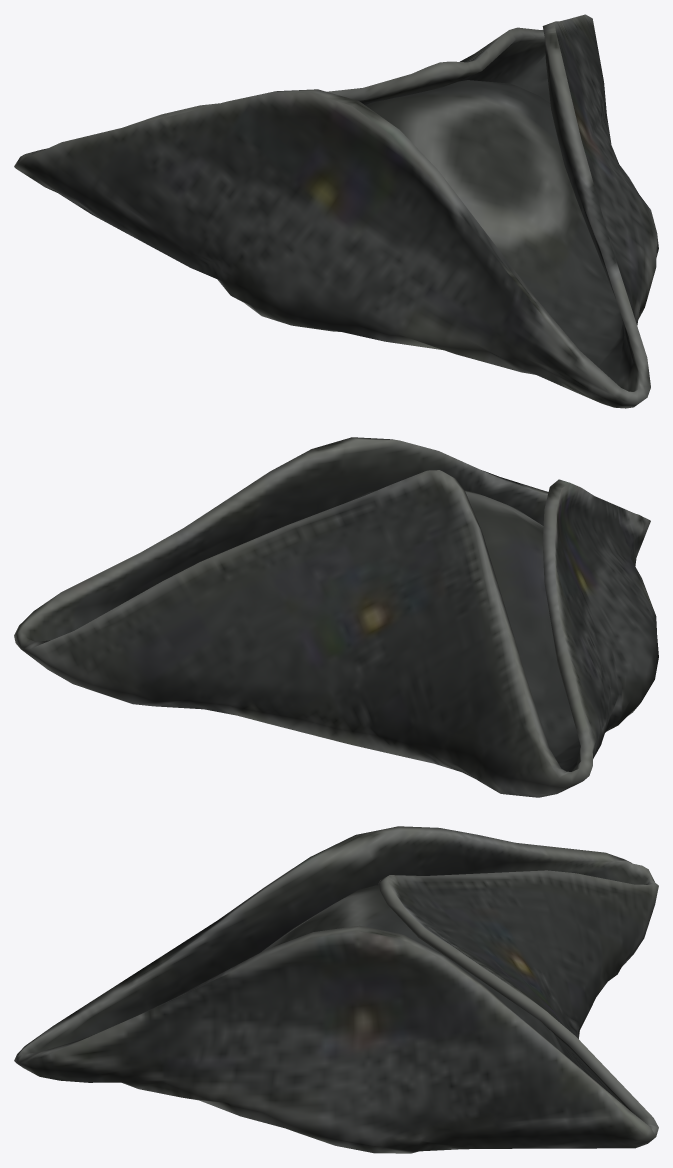
Rendered from tricornhat.glb.
3 renders of one model, top to bottom at view 1: azimuth 30°, elevation 25°; view 2: azimuth 150°, elevation 25°; view 3: azimuth 270°, elevation 25°, orthographic. The views are drawn at different scales.
Visible parts, largest first — view 1: low poly_hat_0; view 2: low poly_hat_0; view 3: low poly_hat_0.
Boxes of the visible parts, x1=… form: low poly_hat_0: x1=14, y1=14, x2=658, y2=408; low poly_hat_0: x1=14, y1=437, x2=658, y2=797; low poly_hat_0: x1=14, y1=826, x2=658, y2=1153.
Bounding box in the file's own units: 0.3334 × 0.1179 × 0.3451.
1 material, 1 textured.
